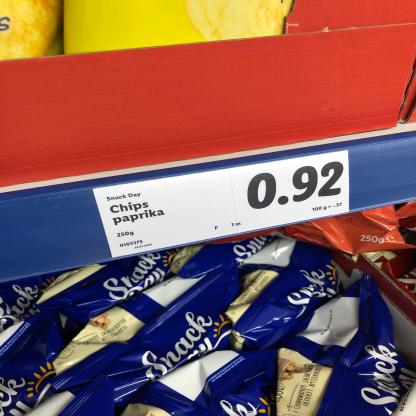prtg: (93, 152, 350, 259)
